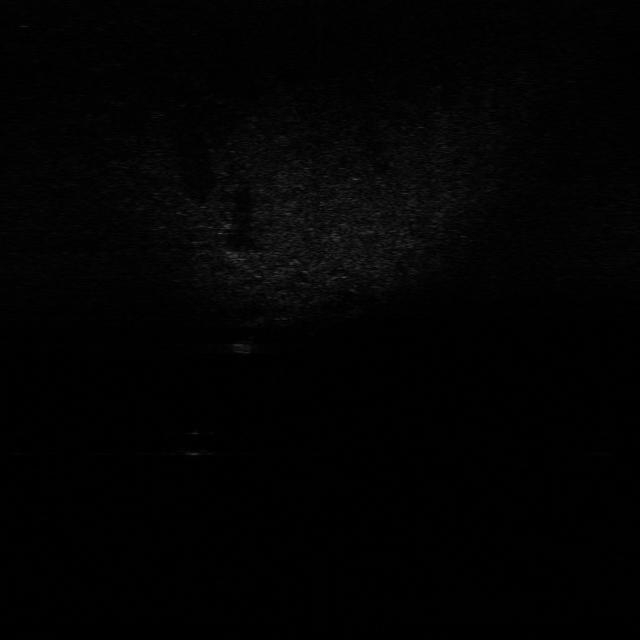ball: (178, 427, 216, 459)
cube: (233, 334, 259, 354)
